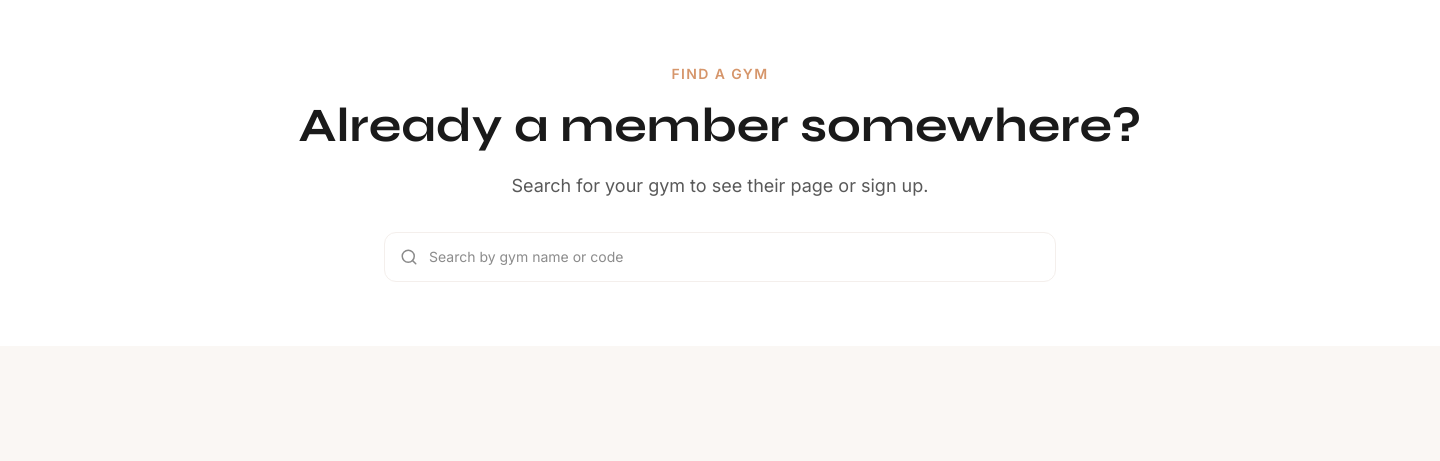
Test: GymFinderSection › falls back to a direct gym lookup when rpc returns no rows
Type "new" into the field with placeholder "Search by gym name or code" at (720, 257), box top-left (384, 232), bottom-right (1056, 282)
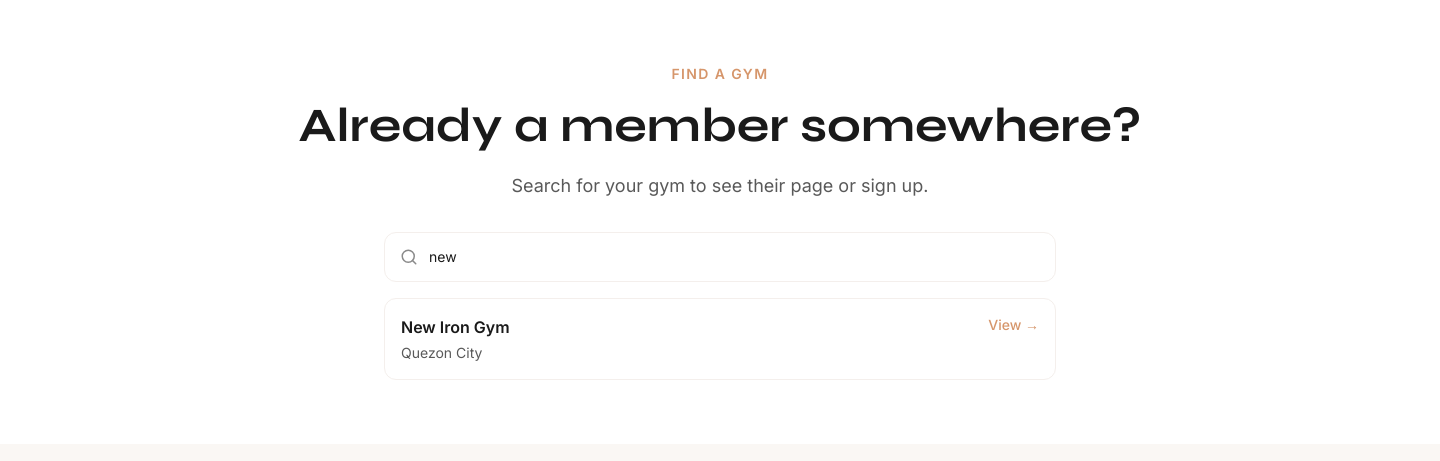
Check: the text "New Iron Gym" is shown, box top-left (401, 315), bottom-right (510, 339)
